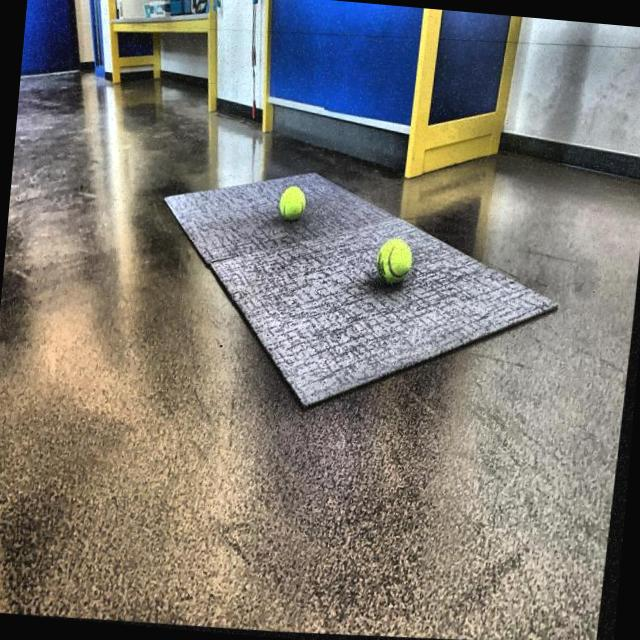Tennis Ball: (372, 237, 418, 290), (275, 182, 312, 228)
